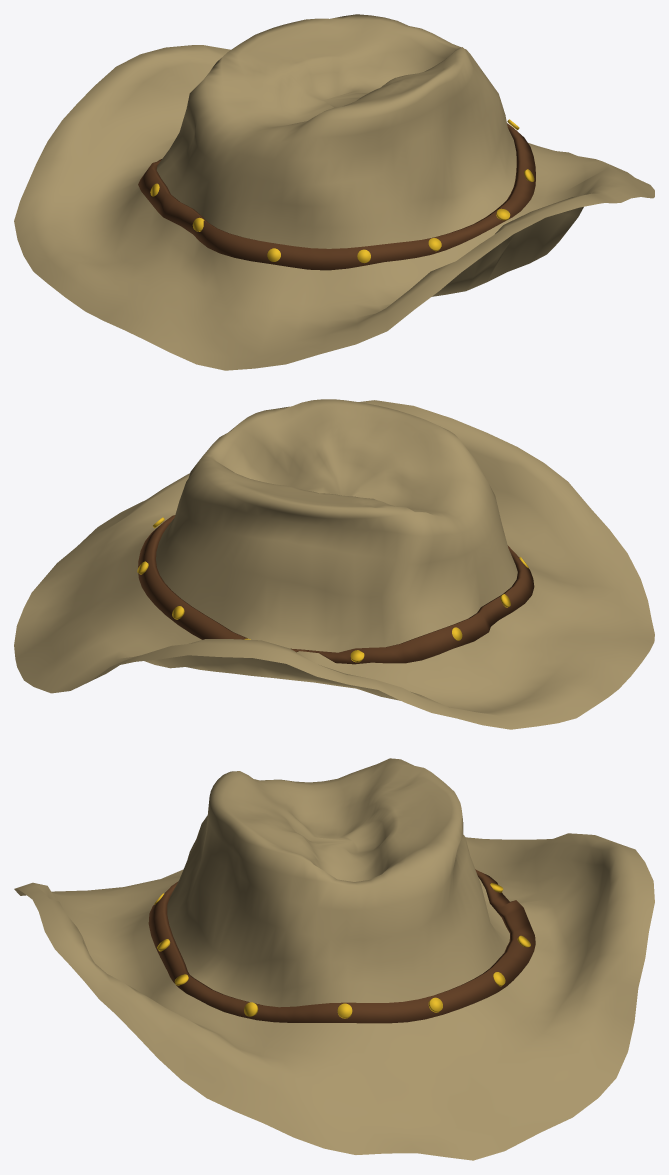
File: cowboy-hat.fbx
3 renders of one model, top to bottom at view 1: azimuth 30°, elevation 25°; view 2: azimuth 150°, elevation 25°; view 3: azimuth 270°, elevation 25°, orthographic. The views are drawn at different scales.
Parts seen in each view (by area): view 1: Cylinder; view 2: Cylinder; view 3: Cylinder.
Boxes of the visible parts, x1=… form: Cylinder: x1=14, y1=14, x2=654, y2=370; Cylinder: x1=14, y1=399, x2=654, y2=729; Cylinder: x1=14, y1=758, x2=654, y2=1160.
Bounding box in the file's own units: 335 × 122 × 309.
